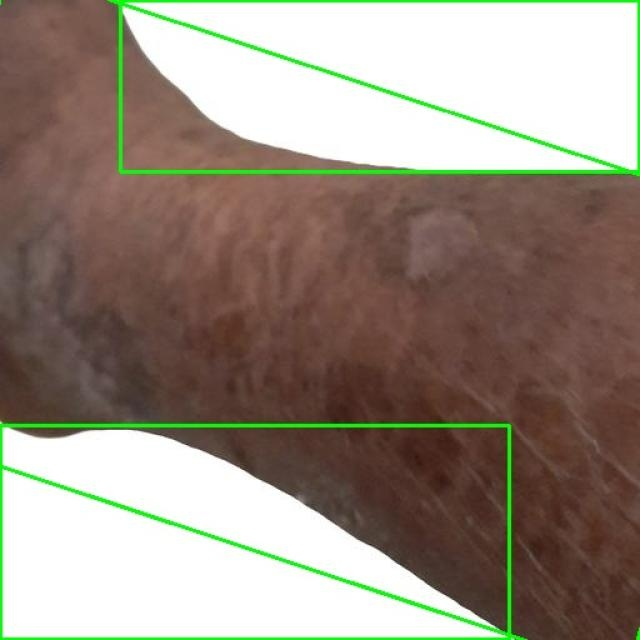Eczema: (0, 0, 640, 640), (0, 425, 509, 639), (120, 0, 639, 171)
